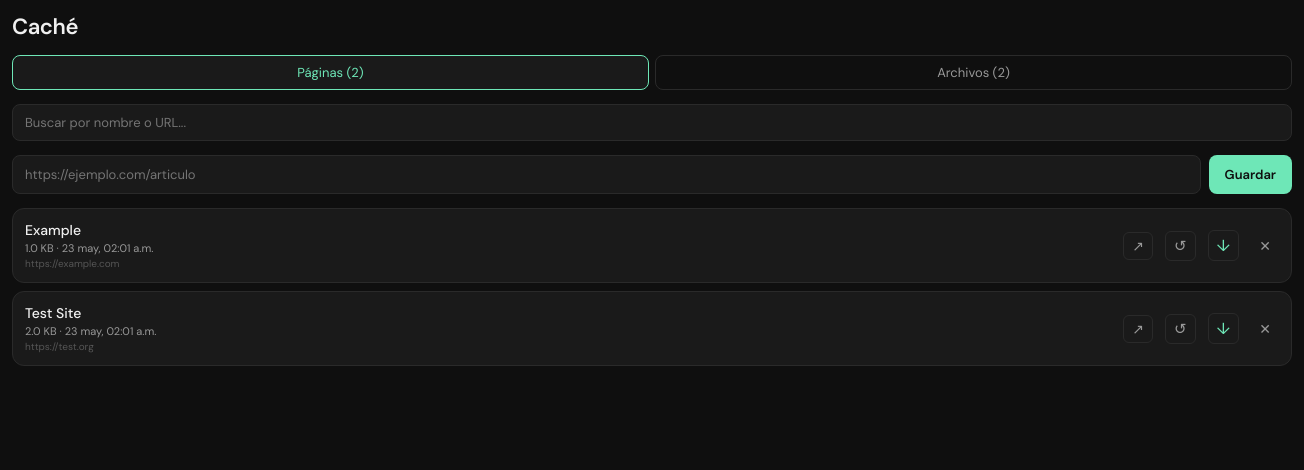
it: CachePage › muestra la lista de archivos al cambiar de tab
The image size is (1304, 470).
Click the button "Archivos (2)".
click(974, 72)  # box left=655, top=55, right=1292, bottom=90
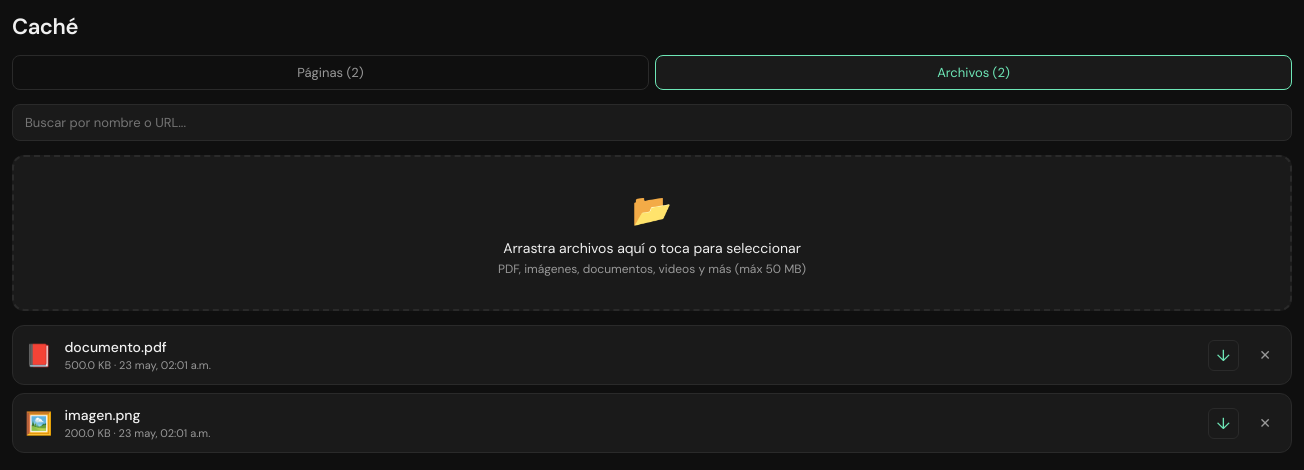
Expected: the text "documento.pdf" is shown, left=64, top=338, right=167, bottom=356
Expected: the text "imagen.png" is shown, left=64, top=406, right=141, bottom=424
